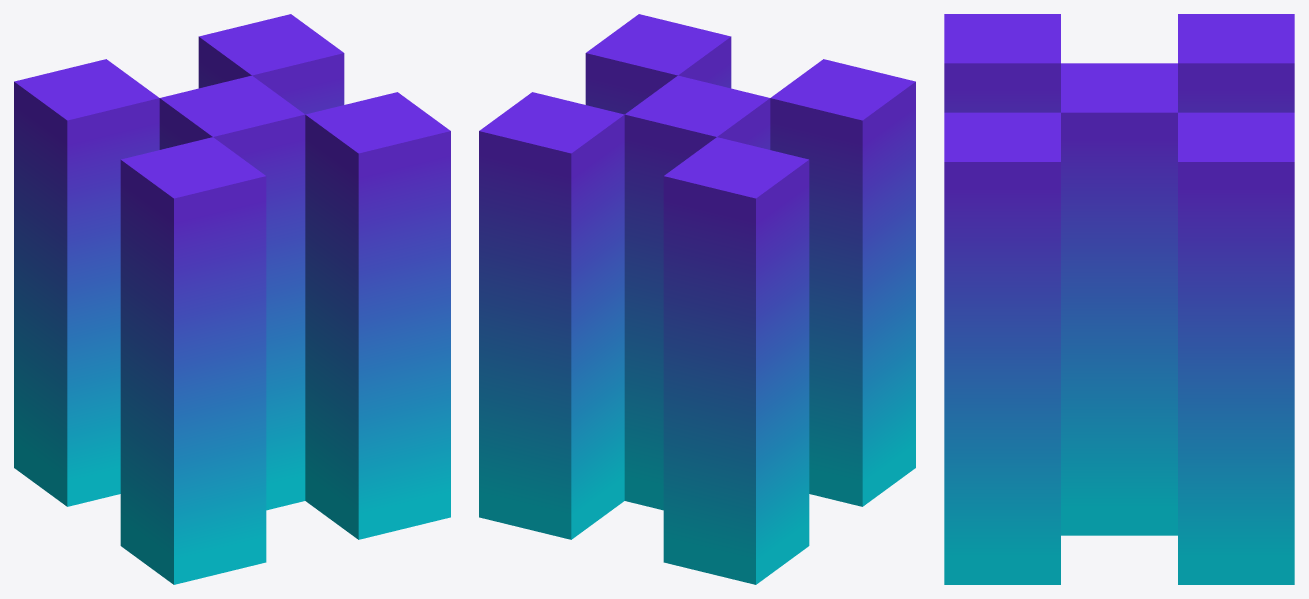
The model's file is Laser.fbx.
The picture shows the model from 3 angles, left to right: view 1: azimuth 30°, elevation 25°; view 2: azimuth 150°, elevation 25°; view 3: azimuth 270°, elevation 25°; orthographic projection. The views are drawn at different scales.
Parts seen in each view (by area): view 1: Laser; view 2: Laser; view 3: Laser.
Boxes of the visible parts, x1=… form: Laser: x1=14, y1=14, x2=450, y2=584; Laser: x1=479, y1=14, x2=915, y2=584; Laser: x1=944, y1=14, x2=1294, y2=584.
Bounding box in the file's own units: 6 × 8 × 6.
1 material, 1 textured.
